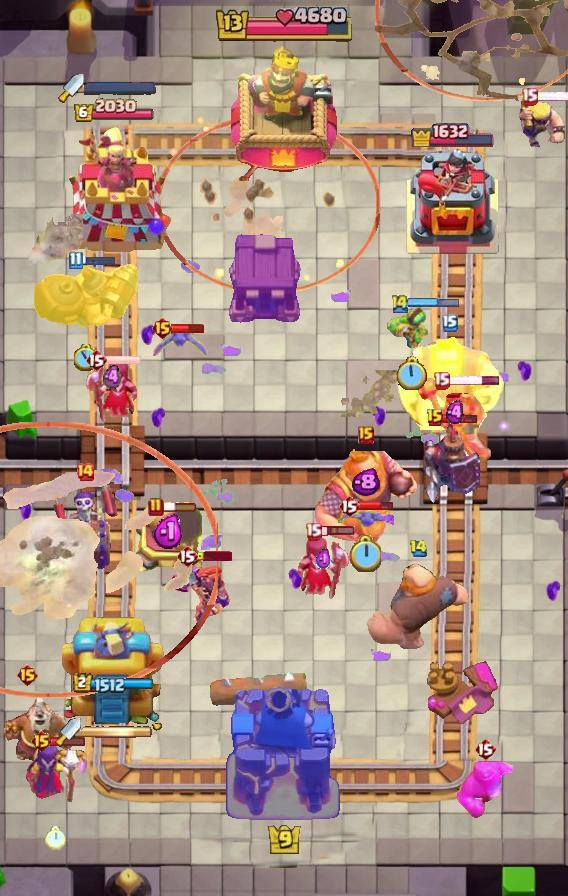arrows: (516, 97, 568, 147)
axe: (23, 738, 87, 808)
balloon: (366, 561, 470, 653)
bar: (55, 126, 173, 256), (62, 611, 166, 731)
barbarian: (150, 325, 210, 363), (336, 505, 394, 531)
bomb: (226, 231, 306, 325)
clock: (213, 7, 355, 45)
electro-spirit: (153, 514, 185, 550), (351, 467, 380, 496), (103, 364, 121, 392), (446, 399, 464, 424), (317, 548, 332, 572)
elixir: (395, 356, 427, 393), (349, 536, 381, 573), (73, 345, 98, 372), (46, 826, 67, 850)
elixir-collector: (0, 692, 78, 768)
elixir-golem-big: (422, 415, 480, 505)
emote: (409, 297, 460, 309), (447, 374, 501, 385), (442, 412, 478, 425), (358, 499, 394, 512), (106, 354, 143, 366), (319, 525, 356, 537), (162, 501, 198, 513), (50, 736, 86, 748), (80, 255, 116, 266), (171, 322, 205, 333), (196, 551, 232, 561), (536, 91, 568, 102)
fisherman: (23, 214, 83, 272), (335, 371, 396, 417)
freeze: (415, 378, 495, 472)
giant-skeleton: (313, 445, 419, 547), (395, 336, 505, 430)
giant-snowball: (387, 306, 435, 350)
guard: (156, 115, 380, 294), (376, 0, 568, 100)
king-tower: (223, 680, 345, 826), (231, 45, 337, 181)
king-tower-bar: (84, 81, 156, 95), (81, 725, 153, 739)
minion: (209, 670, 309, 708)
queen-tower: (403, 146, 503, 256)
rascal-boy: (84, 358, 140, 428), (295, 535, 351, 605)
royal-ghost: (0, 422, 218, 698)
royal-recruit: (133, 503, 205, 577)
selected: (410, 121, 496, 148), (73, 98, 155, 124), (73, 673, 155, 695)
skeleton-king-bar: (51, 485, 119, 571)
tesla-evolution: (170, 561, 232, 625)
text: (150, 316, 173, 340), (17, 663, 40, 687), (31, 729, 54, 753), (85, 348, 107, 372), (338, 494, 360, 518), (176, 544, 198, 568), (474, 737, 496, 761), (390, 294, 410, 315), (75, 462, 95, 482), (426, 408, 444, 428), (408, 539, 427, 557), (433, 371, 451, 389), (305, 523, 323, 541), (148, 497, 164, 517), (522, 87, 539, 105), (442, 314, 458, 332), (358, 426, 374, 444), (69, 251, 83, 270)
tornado: (457, 761, 513, 819)
wizard: (30, 261, 142, 331)
